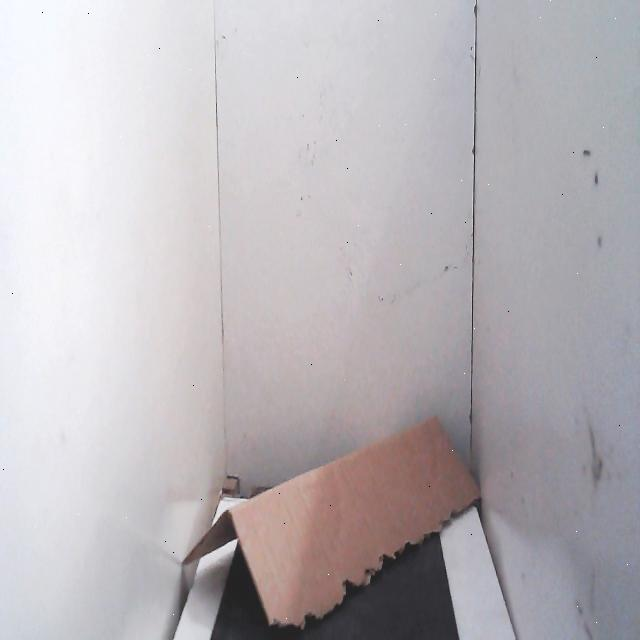paper: (179, 383, 491, 640)
